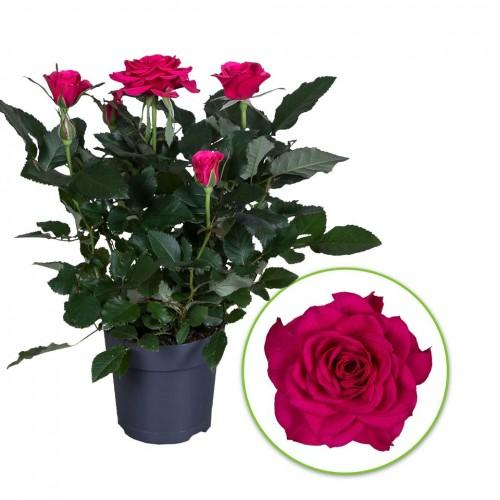Rose: (267, 294, 435, 459), (117, 40, 199, 120), (210, 49, 278, 112), (39, 52, 101, 117), (176, 141, 232, 197)
